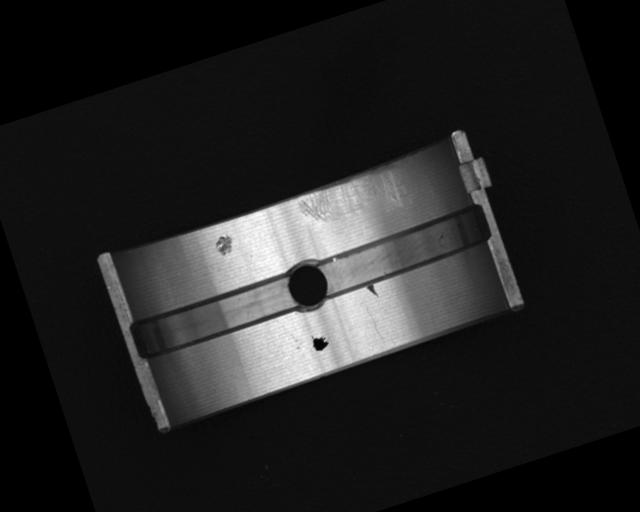blot: (309, 331, 331, 353)
bruise: (211, 232, 238, 260), (363, 282, 379, 299)
gap: (312, 201, 492, 299), (124, 269, 305, 364)
hole: (280, 253, 336, 316)
nick: (365, 304, 384, 343)
scratch: (293, 161, 412, 233)
